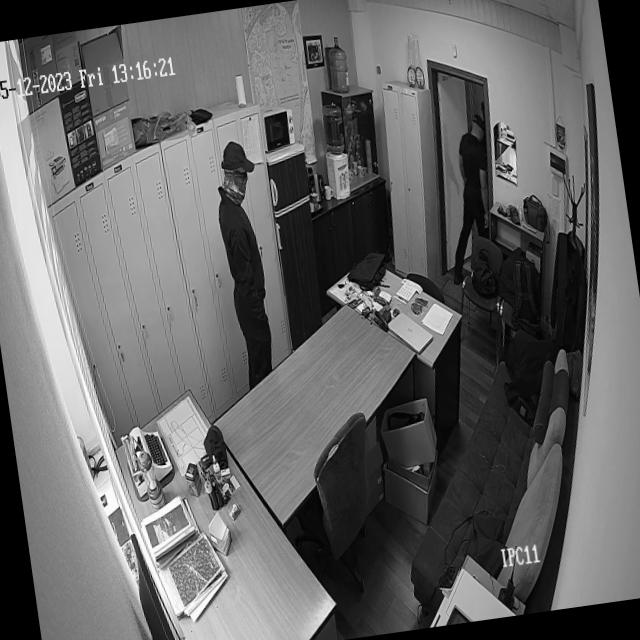gun: (496, 200, 508, 219)
person: (209, 145, 281, 395), (432, 110, 504, 282)
